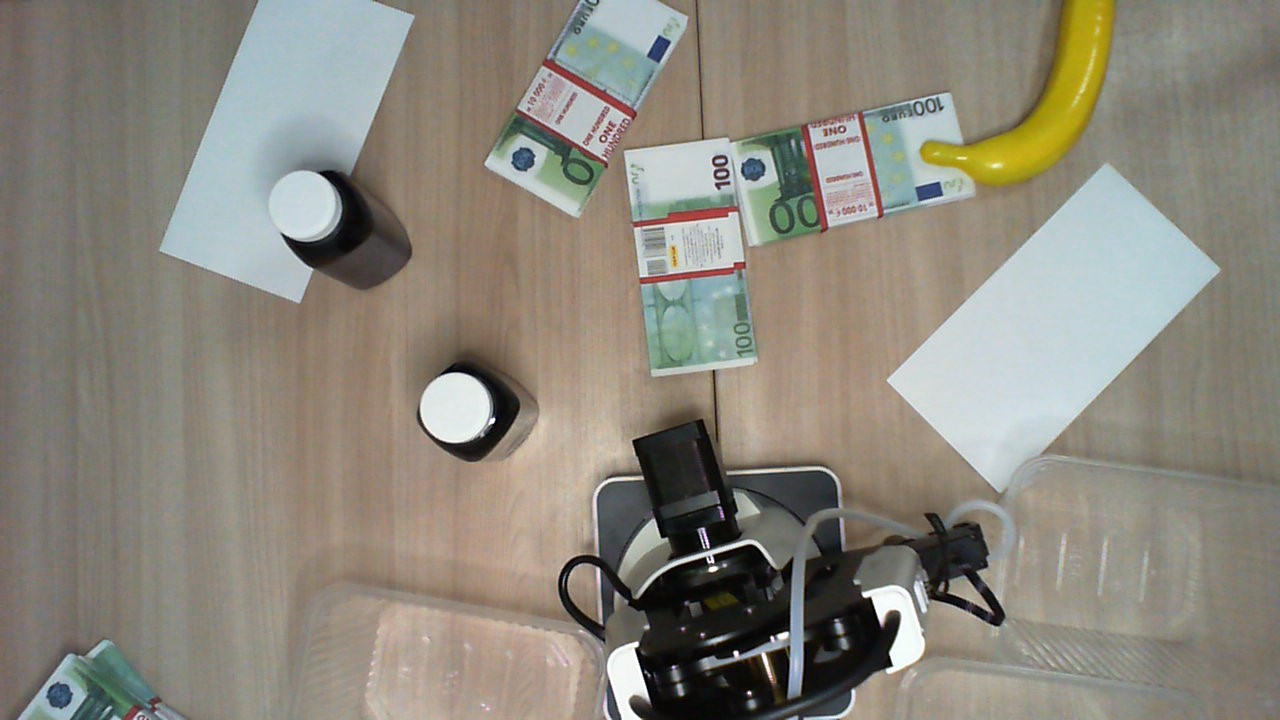bottle: (268, 161, 383, 258), (418, 355, 518, 466)
convert: (894, 159, 1229, 495), (161, 1, 415, 318)
money: (482, 1, 689, 211), (729, 94, 979, 247), (626, 133, 757, 381), (16, 635, 203, 720)
